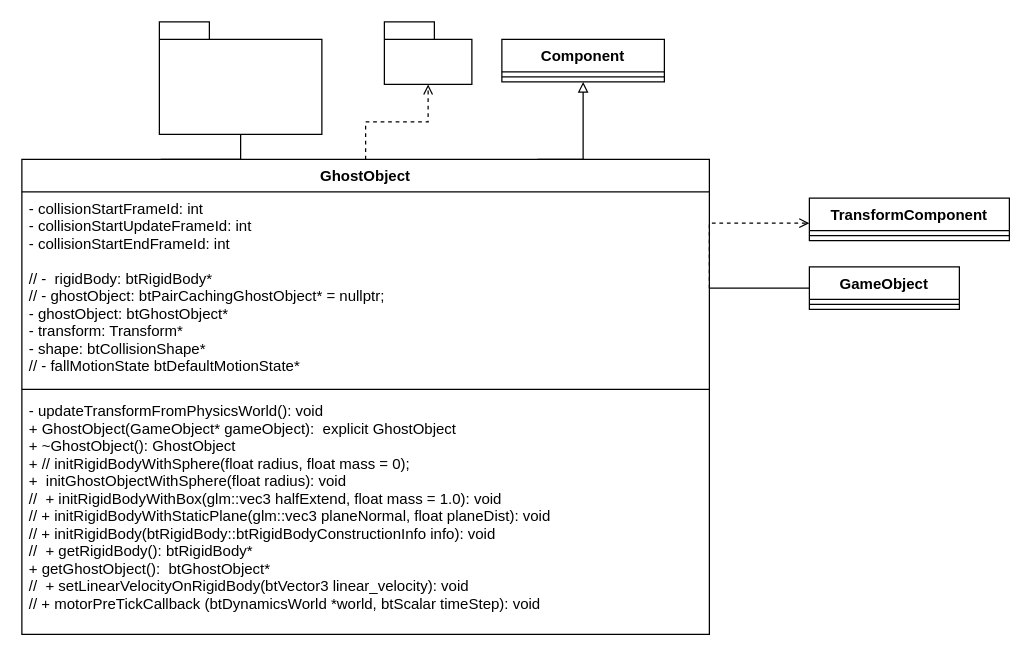
Image size: 1031x660. Some labels were removed from this diagram. The shapes that lost their labels are listed below. From the top down, each one's centre as x and y in pixels, then its label:
At point (427, 52): "Bullet".
At point (240, 77): "OpenGL Mathematics".
